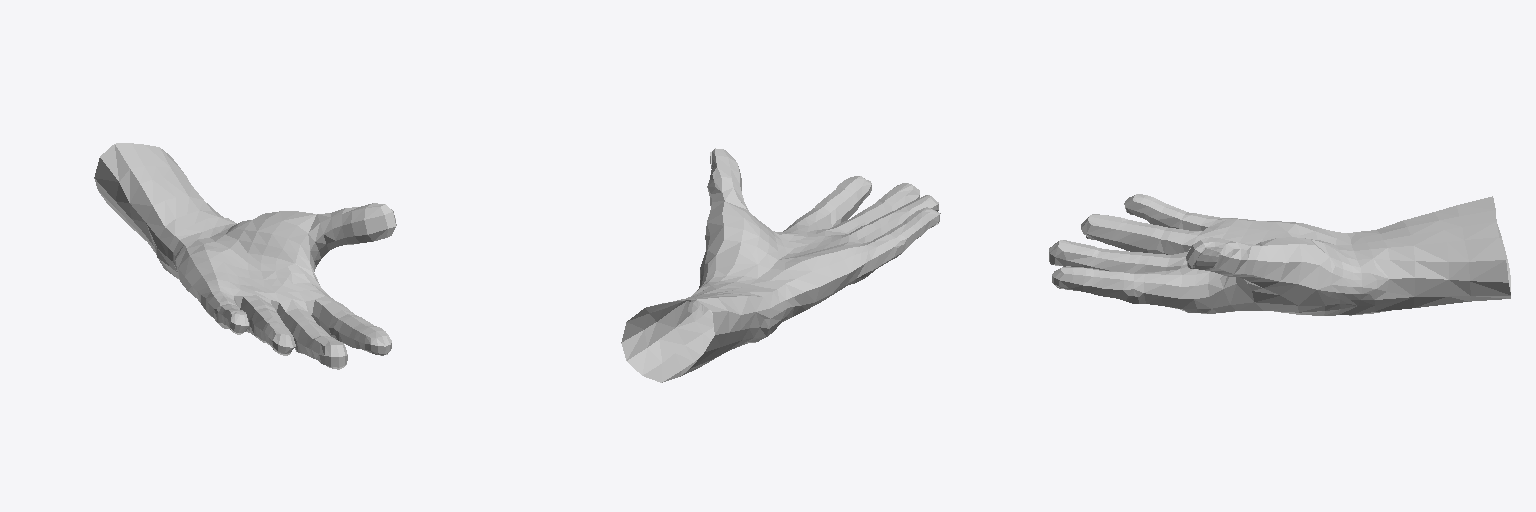
The model's file is 4_4_HandSmoothLeftFront.obj.
3 renders of one model, left to right at view 1: azimuth 30°, elevation 25°; view 2: azimuth 150°, elevation 25°; view 3: azimuth 270°, elevation 25°, orthographic.
Visible parts, largest first — view 1: hand1_polySurface891.002; view 2: hand1_polySurface891.002; view 3: hand1_polySurface891.002.
Part boxes in pixels (left/top/right/bottom): hand1_polySurface891.002: left=94, top=143, right=396, bottom=369; hand1_polySurface891.002: left=621, top=148, right=940, bottom=382; hand1_polySurface891.002: left=1049, top=194, right=1510, bottom=315.
Bounding box in the file's own units: 0.0875 × 0.0487 × 0.1779.